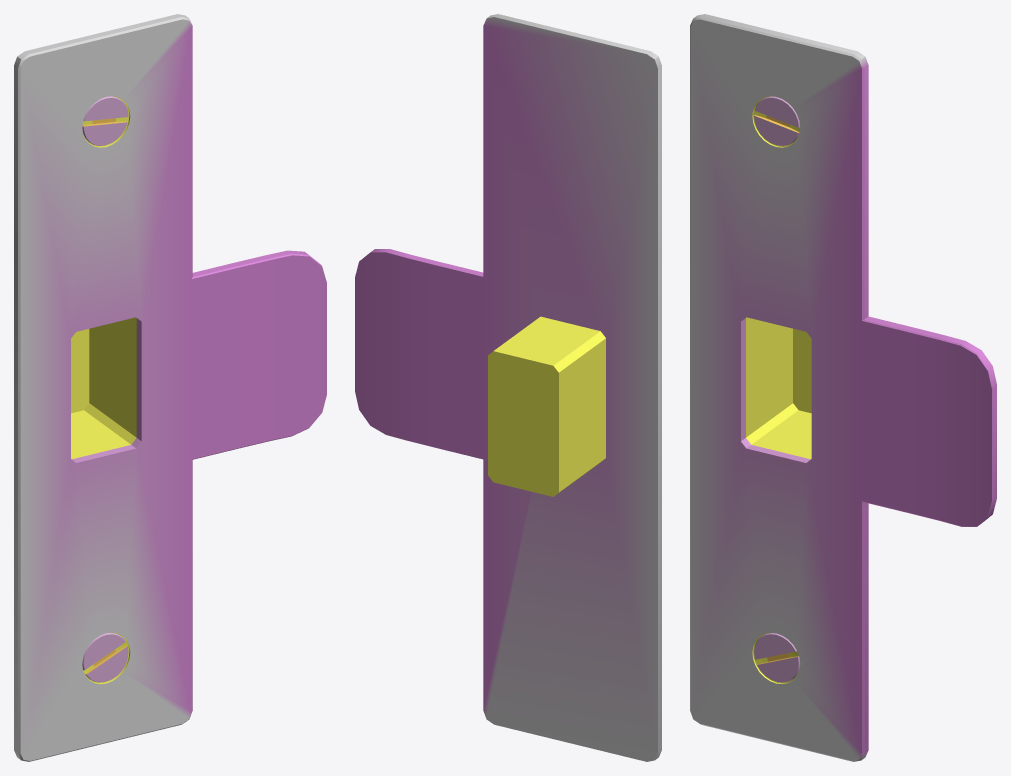
The model's file is Kit_Lock_StrikeBored.fbx.
3 renders of one model, left to right at view 1: azimuth 30°, elevation 25°; view 2: azimuth 150°, elevation 25°; view 3: azimuth 330°, elevation 25°, orthographic.
Visible parts, largest first — view 1: Kit_Lock_StrikeBored_LOD0; view 2: Kit_Lock_StrikeBored_LOD0; view 3: Kit_Lock_StrikeBored_LOD0.
Part boxes in pixels (box(x1,y1,x2,y2)): Kit_Lock_StrikeBored_LOD0: box(14, 14, 326, 761); Kit_Lock_StrikeBored_LOD0: box(355, 14, 661, 761); Kit_Lock_StrikeBored_LOD0: box(690, 14, 996, 761).
Size of what is drawn, in the model's own units: 0.056 by 0.124 by 0.0174.
